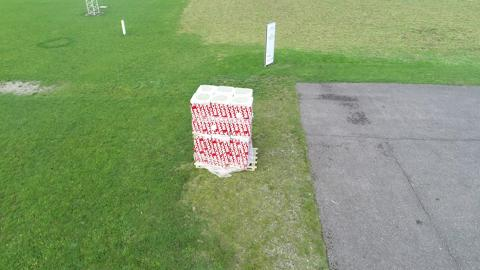RockwoolPallet: (190, 83, 255, 173)
